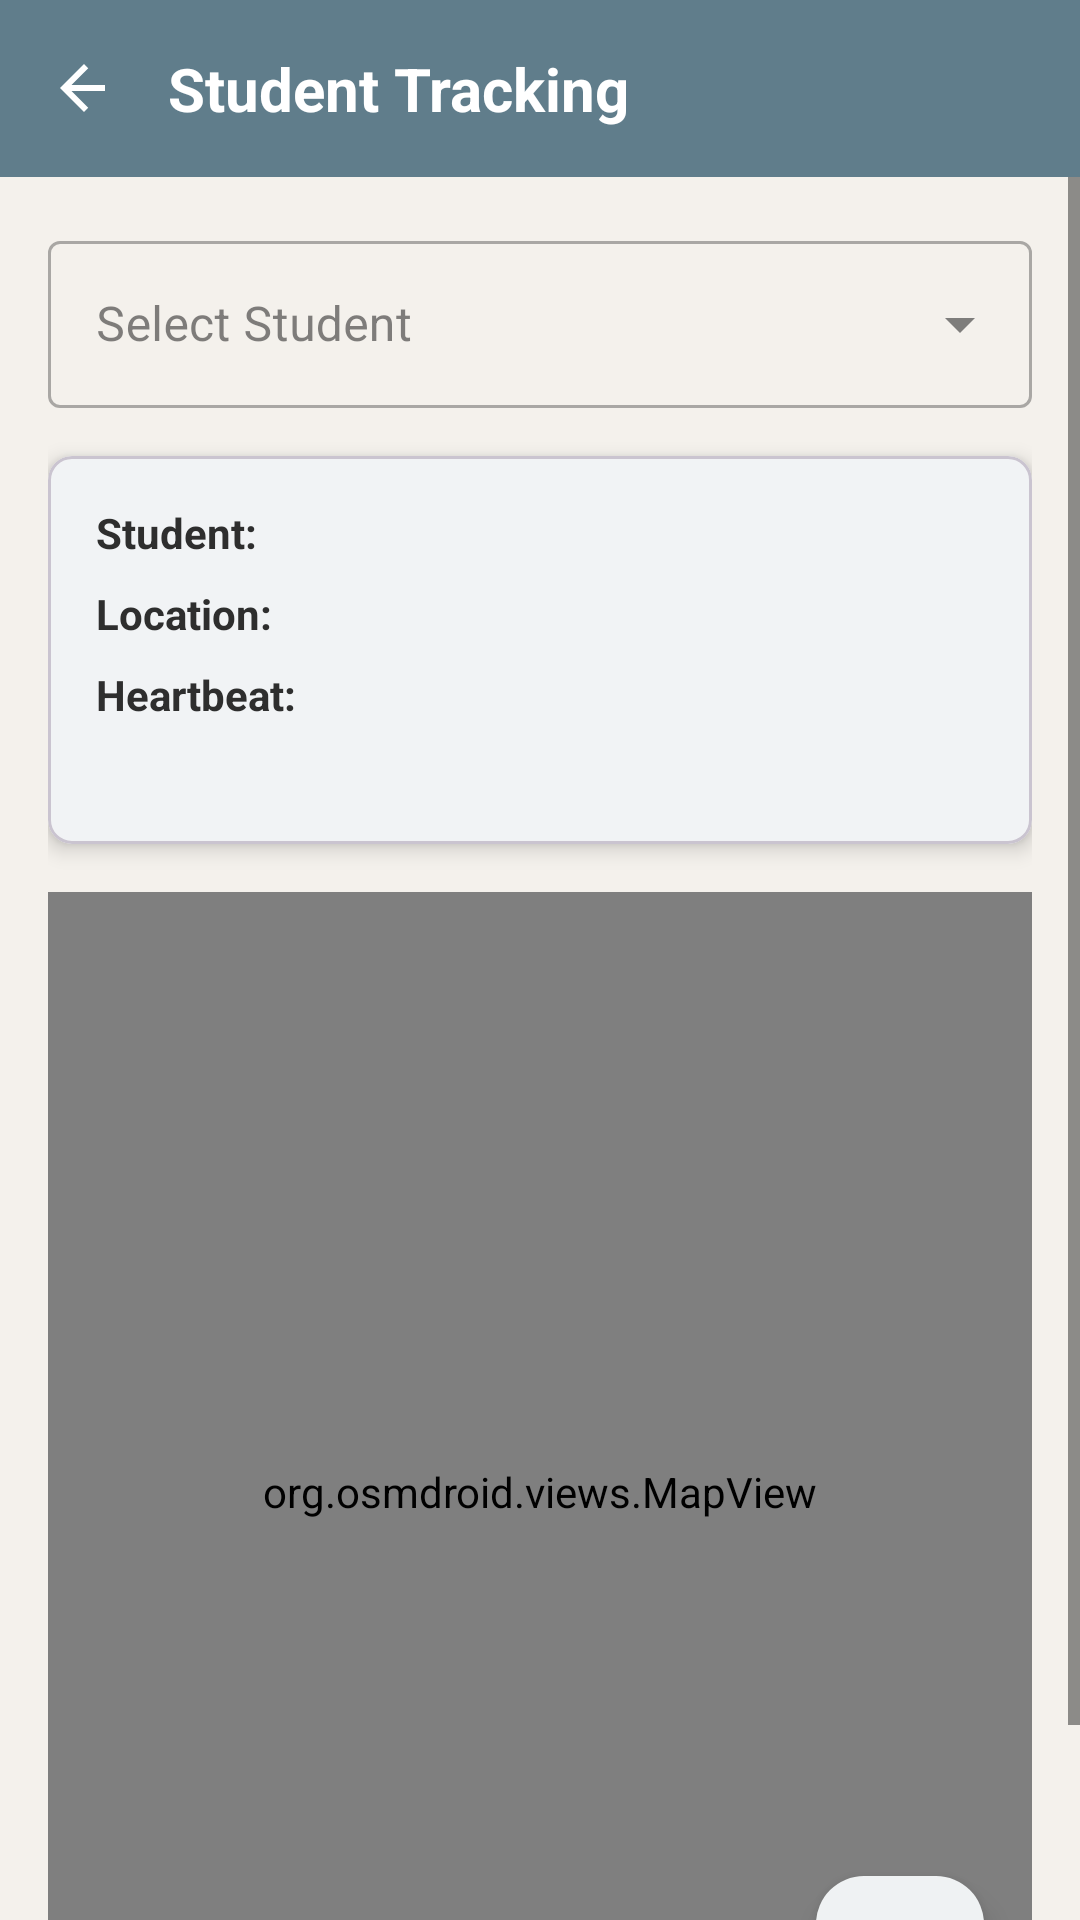

Point at icon controls on the screen. Image size 1080x1920, points as (x,y).
Back: (82,88)
